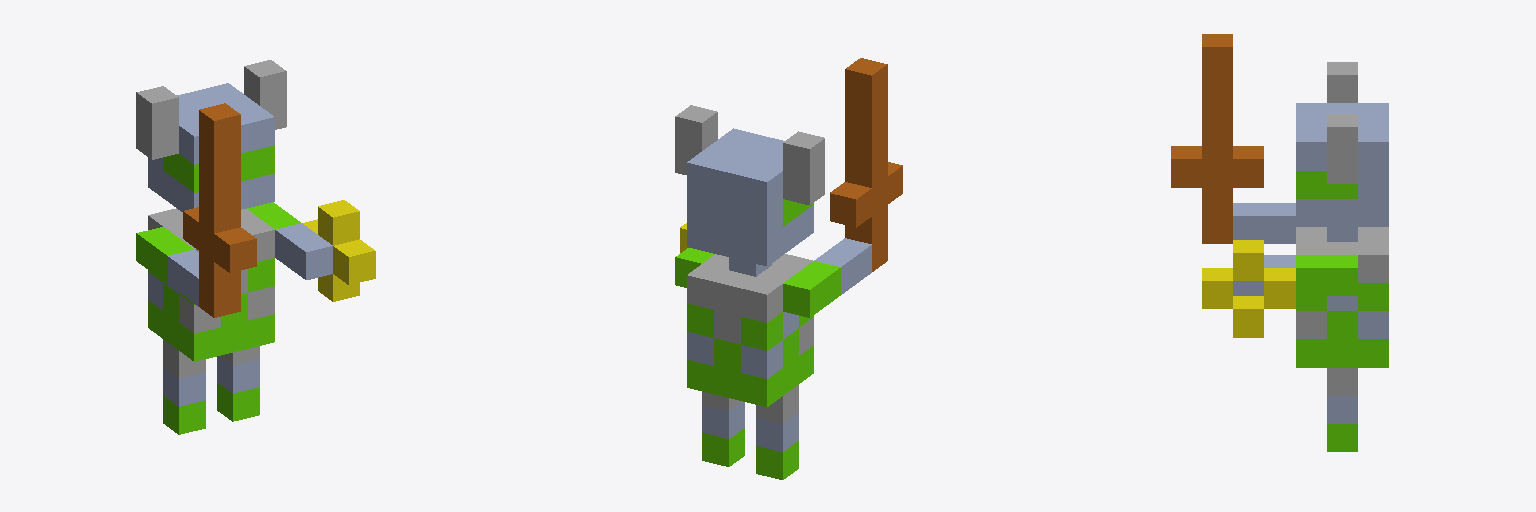
3 renders of one model, left to right at view 1: azimuth 30°, elevation 25°; view 2: azimuth 150°, elevation 25°; view 3: azimuth 270°, elevation 25°, orthographic.
Size of the model in its own units: 6 by 13 by 7.
Materials: 1 (1 with a texture image).